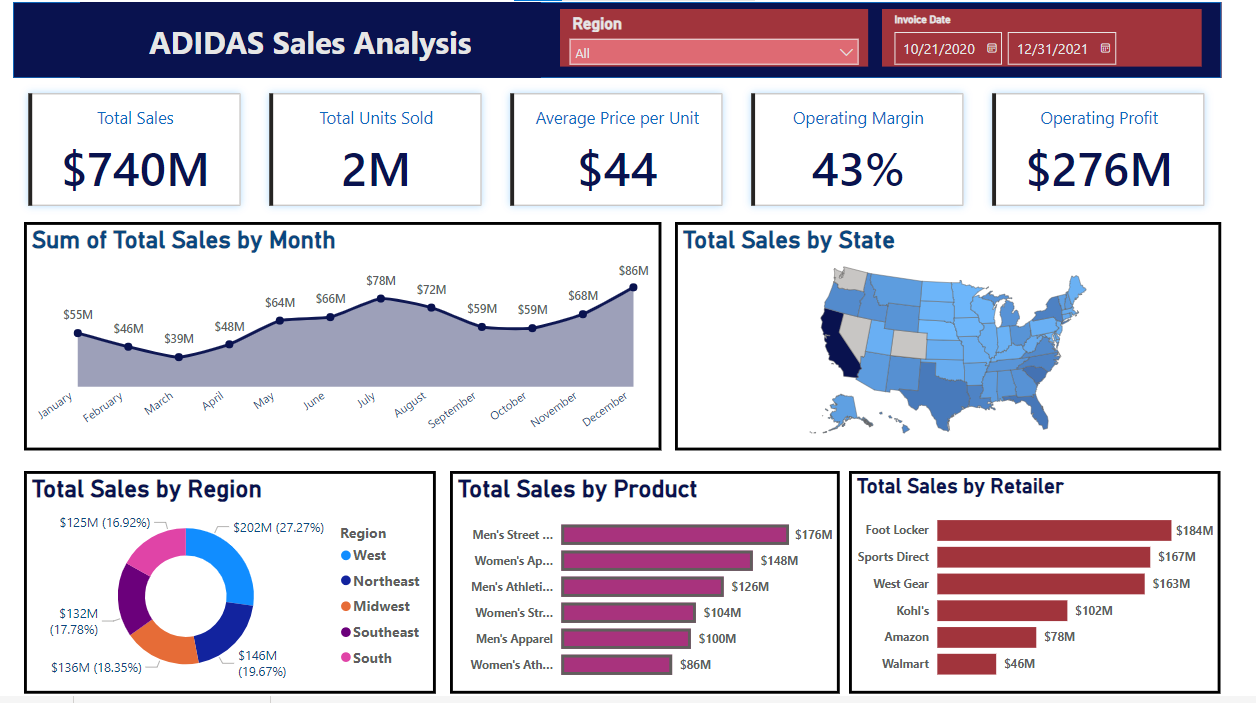

The dashboard page shown, as its layout file describes it:
{"tool":"powerbi","page":{"name":"Page 1","canvas":[1280,720],"ordinal":0},"visuals":[{"type":"shape","title":"ADIDAS Sales Analysis","box":[10.1,0,1258.6,79.2],"z":0},{"type":"textbox","box":[80.6,0,479.5,79.2],"z":1000},{"type":"cardVisual","fields":{"Data":["Sum(Data Sales Adidas.Total Sales)","Sum(Data Sales Adidas.Units Sold)","Avg(Data Sales Adidas.Price per Unit)","Avg(Data Sales Adidas.Operating Margin)","Sum(Data Sales Adidas.Operating Profit)"]},"box":[10.1,79.2,1258.6,149.8],"z":2000},{"type":"areaChart","fields":{"Category":["Data Sales Adidas.Invoice Date.Variation.Date Hierarchy.Month"],"Y":["Sum(Data Sales Adidas.Total Sales)"]},"box":[21.6,229,663.8,237.6],"z":3000},{"type":"shapeMap","title":"Total Sales by State","fields":{"Category":["Data Sales Adidas.State"],"Value":["Sum(Data Sales Adidas.Total Sales)"]},"box":[699.8,229,568.8,237.6],"z":4000},{"type":"donutChart","title":"Total Sales by Region","fields":{"Category":["Data Sales Adidas.Region"],"Y":["Sum(Data Sales Adidas.Total Sales)"]},"box":[21.6,488.2,429.1,231.8],"z":5000},{"type":"barChart","title":"Total Sales by Product","fields":{"Category":["Data Sales Adidas.Product"],"Y":["Sum(Data Sales Adidas.Total Sales)"]},"box":[465.1,488.2,406.1,231.8],"z":6000},{"type":"barChart","title":"Total Sales by Retailer","fields":{"Y":["Sum(Data Sales Adidas.Total Sales)"],"Category":["Data Sales Adidas.Retailer"]},"box":[881.3,488.2,387.4,231.8],"z":7000},{"type":"slicer","fields":{"Values":["Data Sales Adidas.Region"]},"box":[580.3,7.2,321.1,60.5],"z":8000},{"type":"slicer","fields":{"Values":["Data Sales Adidas.Invoice Date"]},"box":[915.8,7.2,332.6,60.5],"z":9000}]}

Visuals, with their boxes in screenshot pixels (x1, y1, x2, y2), scaled from the page's 1280x720 canvas onto the 1256x703 screenshot:
"ADIDAS Sales Analysis" shape: [left=10, top=0, right=1245, bottom=77]
textbox: [left=79, top=0, right=550, bottom=77]
cardVisual - Sum(Data Sales Adidas.Total Sales) x Sum(Data Sales Adidas.Units Sold): [left=10, top=77, right=1245, bottom=224]
areaChart - Data Sales Adidas.Invoice Date.Variation.Date Hierarchy.Month x Sum(Data Sales Adidas.Total Sales): [left=21, top=224, right=673, bottom=456]
"Total Sales by State" shapeMap: [left=687, top=224, right=1245, bottom=456]
"Total Sales by Region" donutChart: [left=21, top=477, right=442, bottom=702]
"Total Sales by Product" barChart: [left=456, top=477, right=855, bottom=702]
"Total Sales by Retailer" barChart: [left=865, top=477, right=1245, bottom=702]
slicer - Data Sales Adidas.Region: [left=569, top=7, right=884, bottom=66]
slicer - Data Sales Adidas.Invoice Date: [left=899, top=7, right=1225, bottom=66]
